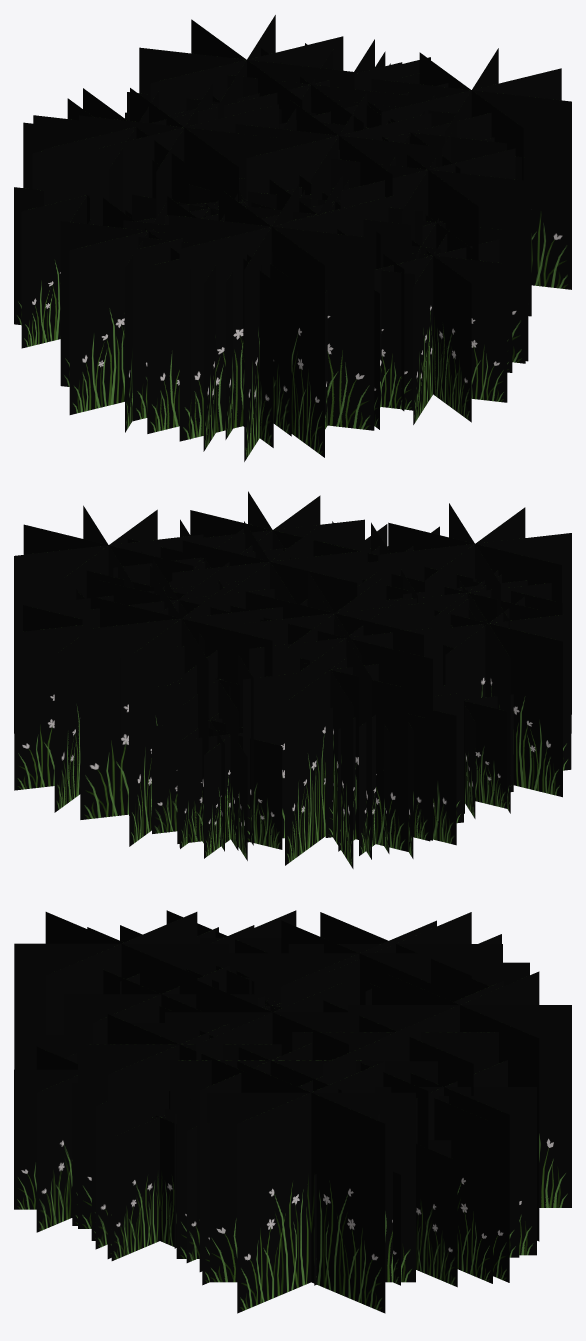
The model's file is SM_Grass_With_Flowers.fbx.
3 views of the same model, one above another, from view 1: azimuth 30°, elevation 25°; view 2: azimuth 150°, elevation 25°; view 3: azimuth 270°, elevation 25° (orthographic). The views are drawn at different scales.
Parts seen in each view (by area): view 1: SM_Grass_With_Flowers; view 2: SM_Grass_With_Flowers; view 3: SM_Grass_With_Flowers.
Part boxes in pixels (bbox=[...]): SM_Grass_With_Flowers: bbox=[14, 15, 571, 461]; SM_Grass_With_Flowers: bbox=[14, 491, 571, 868]; SM_Grass_With_Flowers: bbox=[14, 910, 571, 1313].
Bounding box in the file's own units: 137 × 49.63 × 124.
